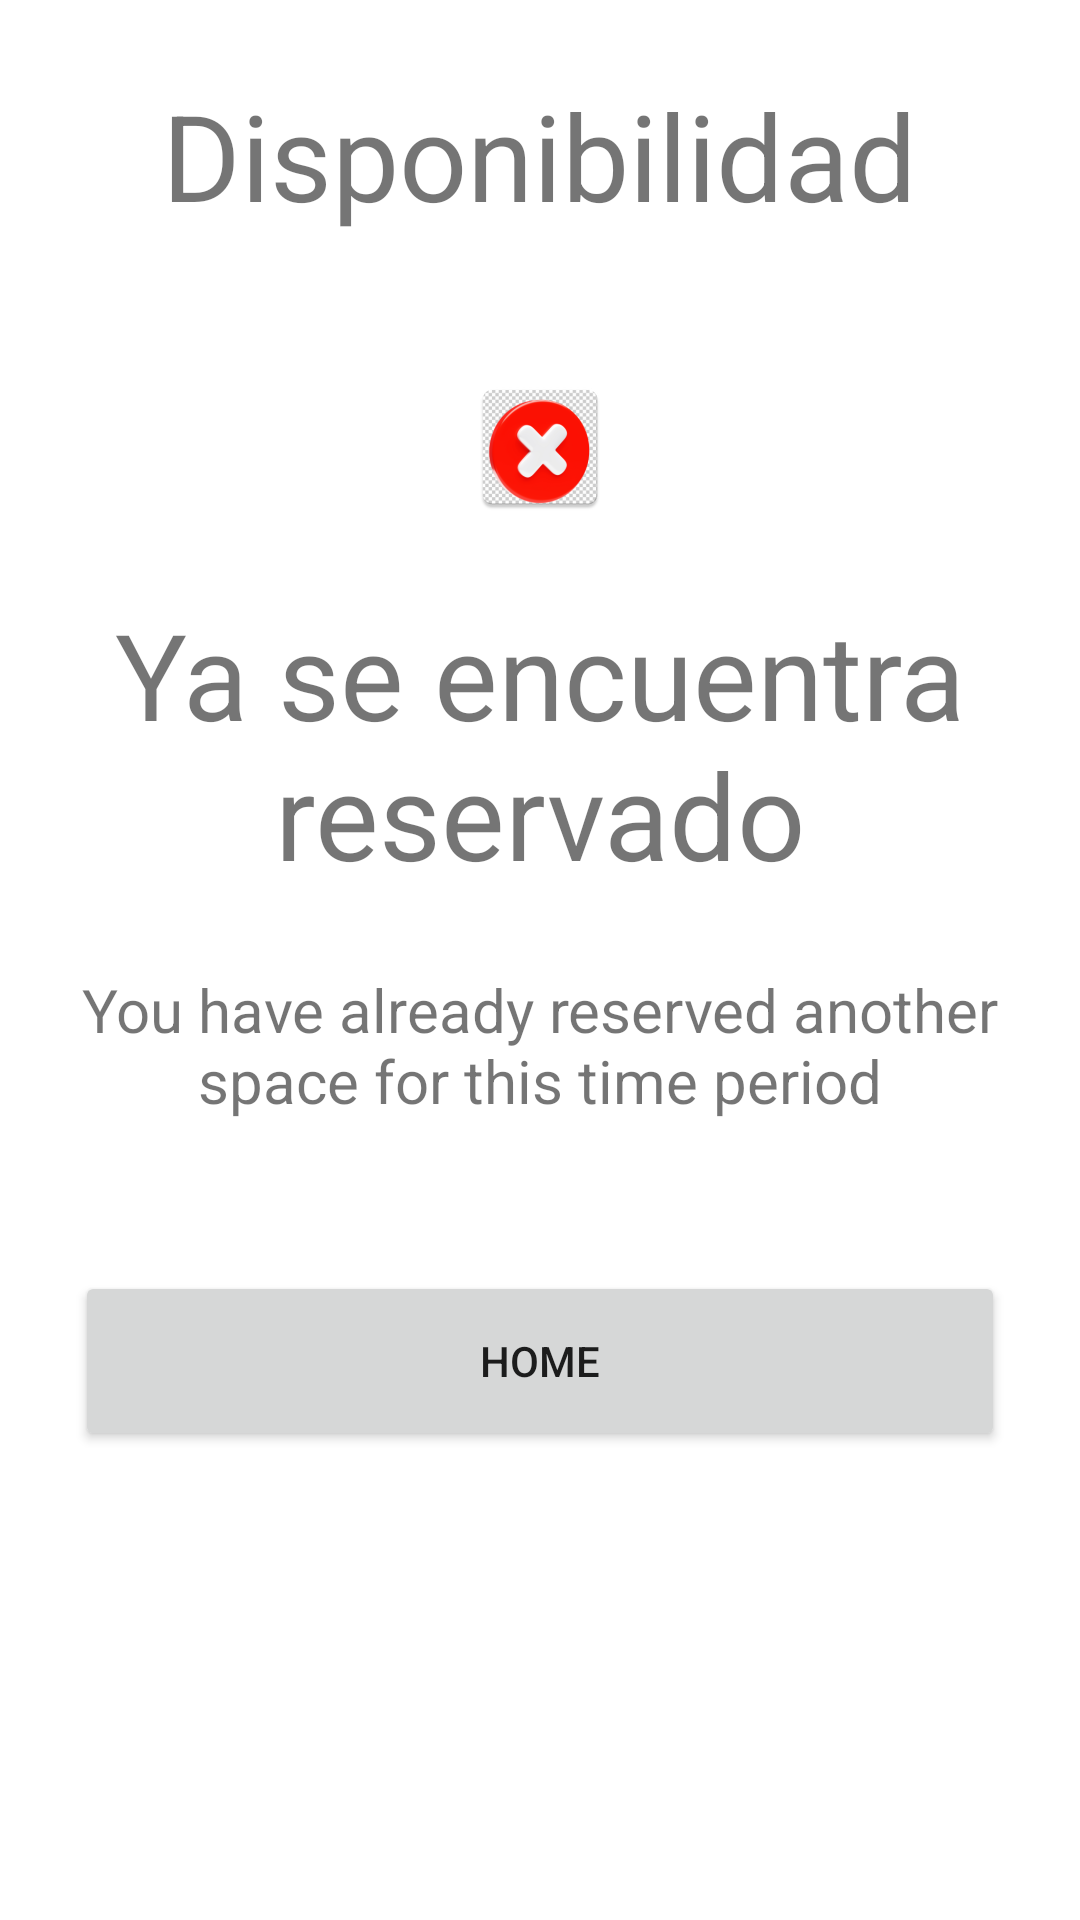

Icons on this 1080*1920 Android screen, each with the point to tap as (x,y):
equis: (540,449)
